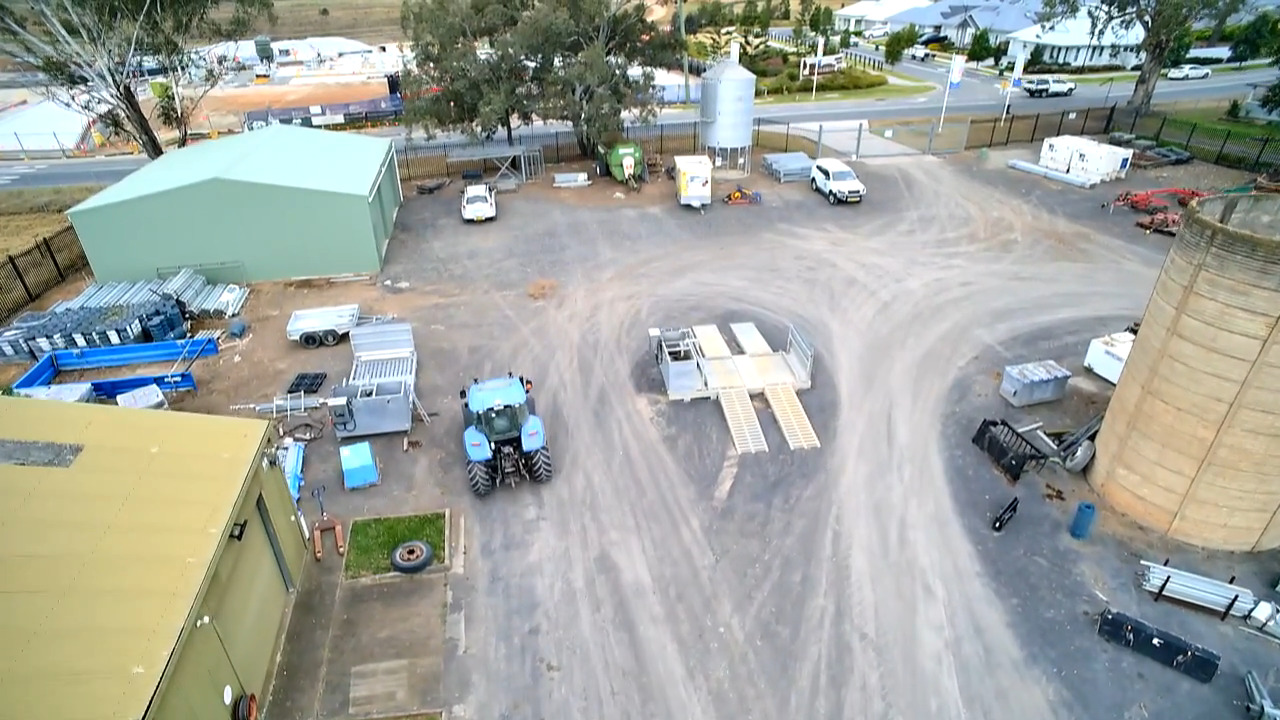Car: (809, 158, 866, 205), (460, 184, 497, 223)
